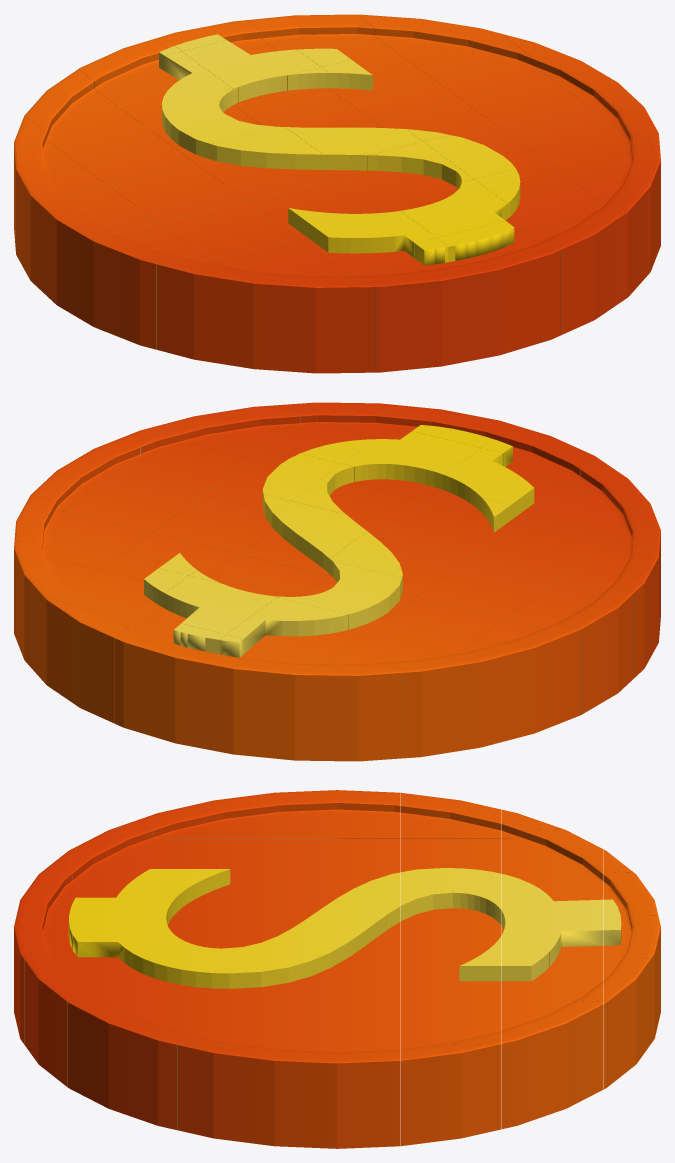
The model's file is Coin.fbx.
3 views of the same model, one above another, from view 1: azimuth 30°, elevation 25°; view 2: azimuth 150°, elevation 25°; view 3: azimuth 270°, elevation 25° (orthographic).
Visible parts, largest first — view 1: Coin.012, Coin.011, Coin.013, Coin.016, Coin.015, Coin.017, Coin.010, Coin.038, Coin.032, Coin.043, Coin.014, Coin.025 (+30 smaller); view 2: Coin, Coin.018, Coin.001, Coin.017, Coin.020, Coin.019, Coin.002, Coin.021, Coin.030, Coin.044, Coin.016, Coin.039 (+29 smaller); view 3: Coin.004, Coin.006, Coin.007, Coin.008, Coin.005, Coin.042, Coin.010, Coin.034, Coin.028, Coin.023, Coin.039, Coin.040 (+30 smaller).
Part boxes in pixels (<box>): Coin.012: <box>349,238,475,372</box>; Coin.011: <box>437,221,560,359</box>; Coin.013: <box>275,275,375,373</box>; Coin.016: <box>79,222,208,349</box>; Coin.015: <box>156,258,252,368</box>; Coin.017: <box>30,185,157,318</box>; Coin.010: <box>525,202,626,335</box>; Coin.038: <box>196,127,334,200</box>; Coin.032: <box>298,211,436,275</box>; Coin.043: <box>335,142,473,212</box>; Coin.014: <box>209,238,347,370</box>; Coin.025: <box>410,32,548,98</box>; Coin: <box>199,634,313,760</box>; Coin.018: <box>457,619,581,743</box>; Coin.001: <box>114,623,225,747</box>; Coin.017: <box>505,581,634,714</box>; Coin.020: <box>316,634,449,760</box>; Coin.019: <box>422,652,495,756</box>; Coin.002: <box>48,599,137,723</box>; Coin.021: <box>299,664,363,761</box>; Coin.030: <box>227,597,364,664</box>; Coin.044: <box>342,431,480,500</box>; Coin.016: <box>556,543,659,677</box>; Coin.039: <box>240,501,378,575</box>; Coin.004: <box>502,1001,603,1129</box>; Coin.006: <box>298,1049,399,1148</box>; Coin.007: <box>196,1044,298,1147</box>; Coin.008: <box>95,1002,196,1130</box>; Coin.005: <box>400,1044,497,1146</box>; Coin.042: <box>196,951,298,1009</box>; Coin.010: <box>24,958,94,1086</box>; Coin.034: <box>400,868,501,923</box>; Coin.028: <box>95,951,196,1009</box>; Coin.023: <box>502,908,603,966</box>; Coin.039: <box>298,908,399,966</box>; Coin.040: <box>298,951,399,1009</box>.
Bounding box in the file's own units: 42.45 × 6.78 × 42.45.
